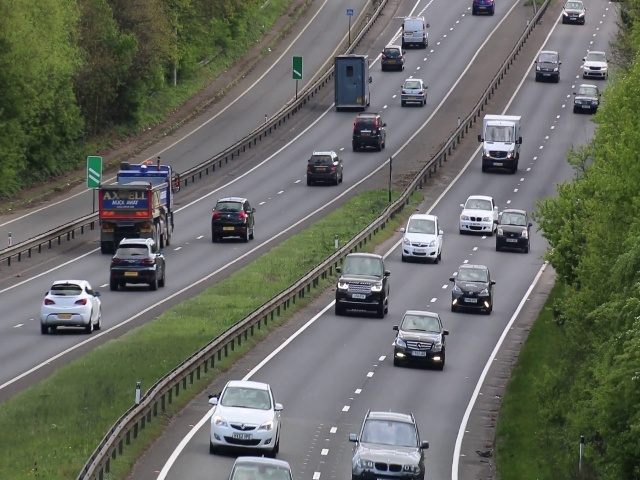car: (99, 166, 172, 237), (352, 410, 425, 480), (211, 382, 278, 455), (37, 279, 104, 336), (336, 253, 387, 318), (109, 239, 169, 290), (396, 309, 443, 373), (332, 54, 373, 111), (481, 116, 520, 174), (450, 266, 493, 314), (401, 213, 441, 262), (211, 198, 253, 242), (495, 208, 531, 252), (459, 195, 494, 235), (305, 149, 344, 184), (353, 115, 386, 151), (400, 75, 429, 107), (580, 50, 609, 81), (400, 15, 428, 47), (535, 49, 560, 80), (574, 86, 598, 113), (382, 43, 404, 72), (563, 1, 586, 25)
